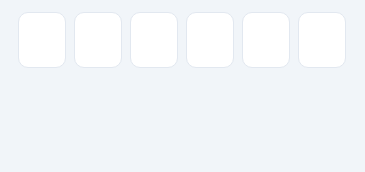
Test: OtpInput › xoá một ô GIỮA thì các số phía sau ĐỨNG YÊN, không dồn lên
Click the field named "Chữ số thứ 1" at {"x": 42, "y": 40}, box [18, 12, 66, 68]
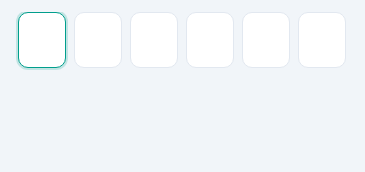
Type keys "123456"
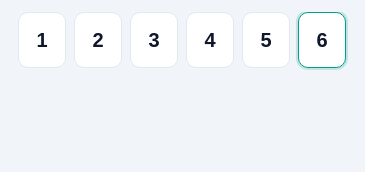
Click the field named "Chữ số thứ 3" at {"x": 154, "y": 40}, box [130, 12, 178, 68]
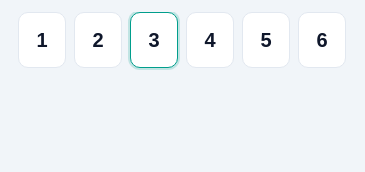
Press Backspace
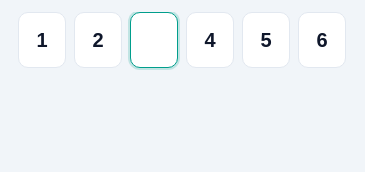
Check: the field named "Chữ số thứ 4" holds "4", box [186, 12, 234, 68]
Check: the field named "Chữ số thứ 5" holds "5", box [242, 12, 290, 68]
Check: the field named "Chữ số thứ 3" is empty, box [130, 12, 178, 68]
